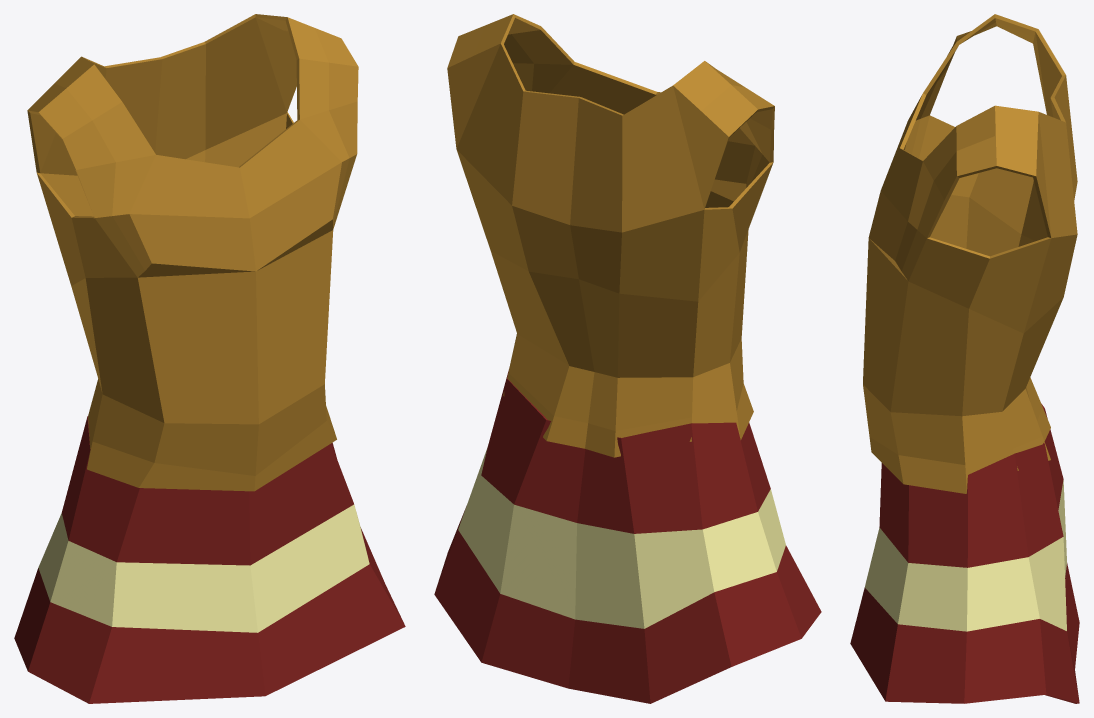
The model's file is ArmaduraXifista.fbx.
The picture shows the model from 3 angles, left to right: view 1: azimuth 30°, elevation 25°; view 2: azimuth 150°, elevation 25°; view 3: azimuth 270°, elevation 25°; orthographic projection. The views are drawn at different scales.
Visible parts, largest first — view 1: M Sword Corintius Hoplite; view 2: M Sword Corintius Hoplite; view 3: M Sword Corintius Hoplite.
Part boxes in pixels (x1,y1,x2,y2): M Sword Corintius Hoplite: (14,14,405,703); M Sword Corintius Hoplite: (434,14,821,703); M Sword Corintius Hoplite: (850,14,1079,703).
Size of the model in its own units: 99.98 by 168 by 57.17.
